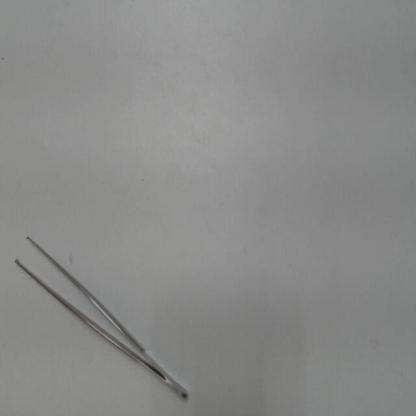Gillies Toothed Dissector: (12, 224, 194, 407)
